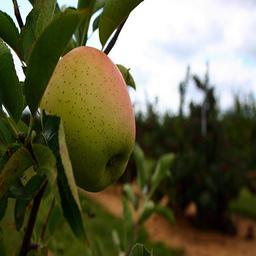apple: (40, 46, 136, 192)
